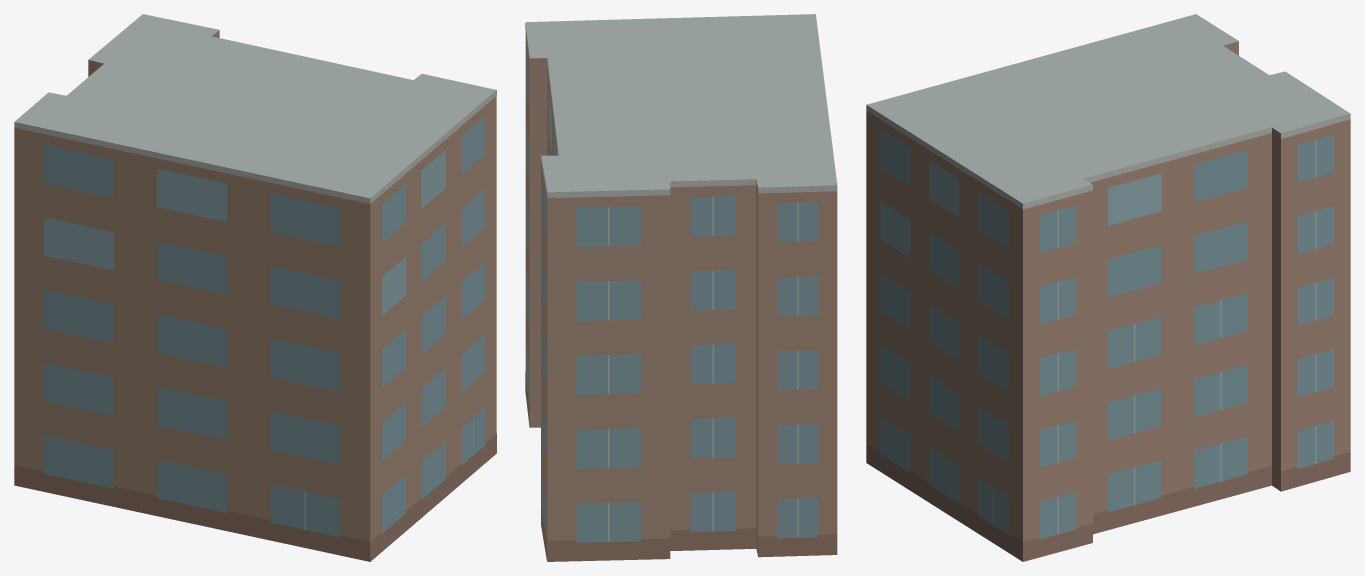
File: survey-upis-32686338.glb
3 renders of one model, left to right at view 1: azimuth 30°, elevation 25°; view 2: azimuth 150°, elevation 25°; view 3: azimuth 270°, elevation 25°, orthographic. The views are drawn at different scales.
Visible parts, largest first — view 1: survey-upis-32686338.tmp; view 2: survey-upis-32686338.tmp; view 3: survey-upis-32686338.tmp.
Part boxes in pixels (<box>): survey-upis-32686338.tmp: <box>14,14,496,561</box>; survey-upis-32686338.tmp: <box>525,14,837,561</box>; survey-upis-32686338.tmp: <box>866,14,1350,561</box>.
Bounding box in the file's own units: 17.45 × 15.35 × 18.82.
